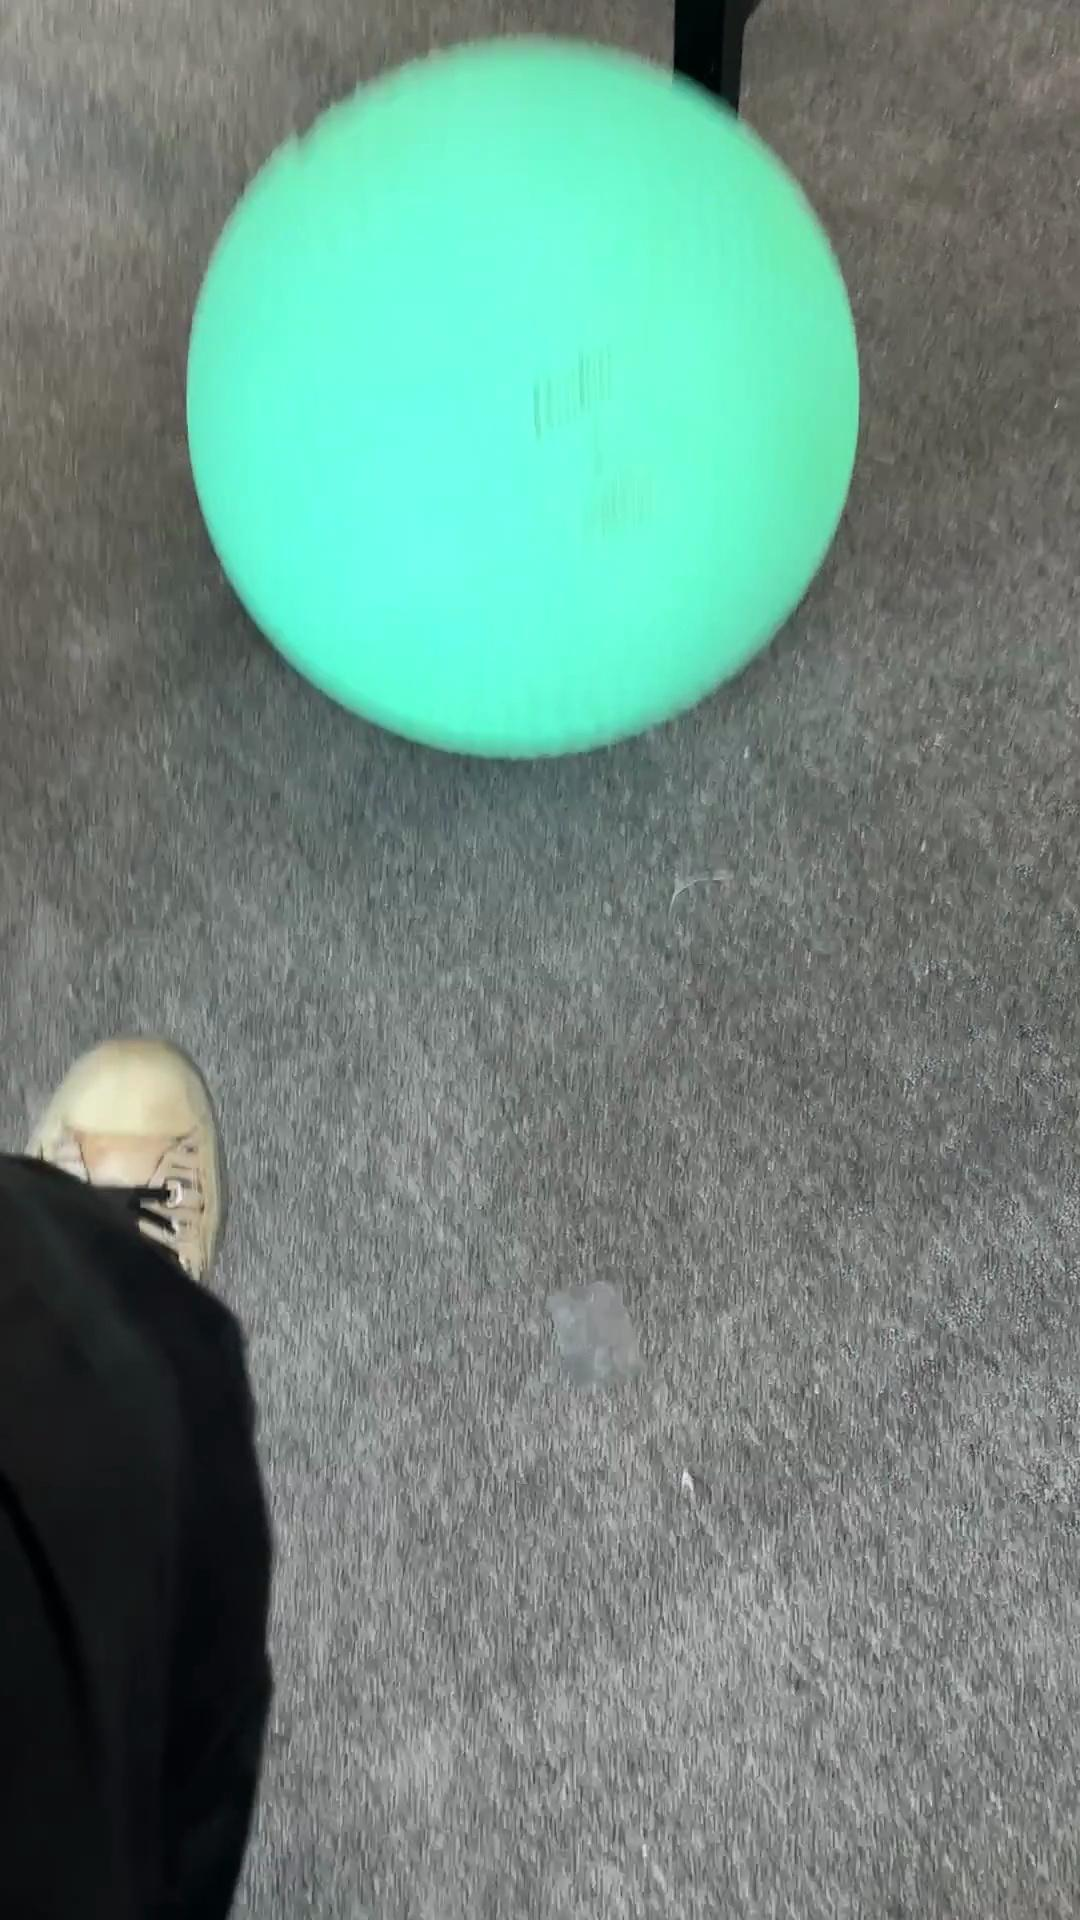ALGAE: (182, 33, 863, 762)
